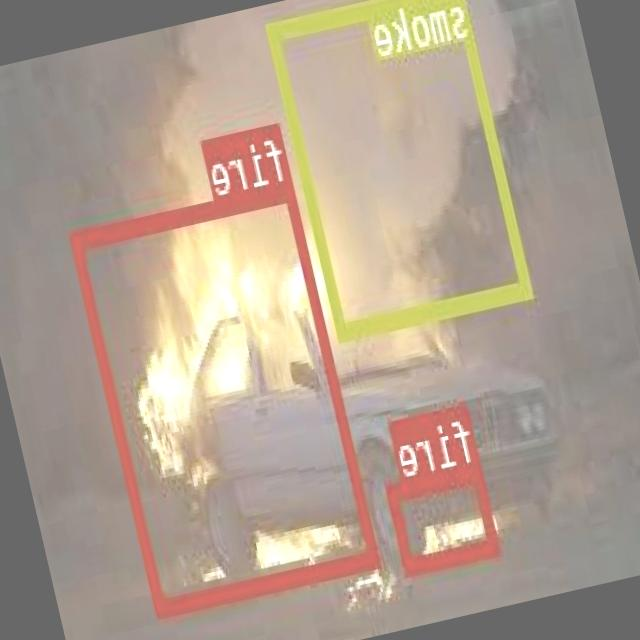fire: (70, 178, 380, 612), (386, 461, 502, 574)
smoke: (268, 0, 535, 338)
